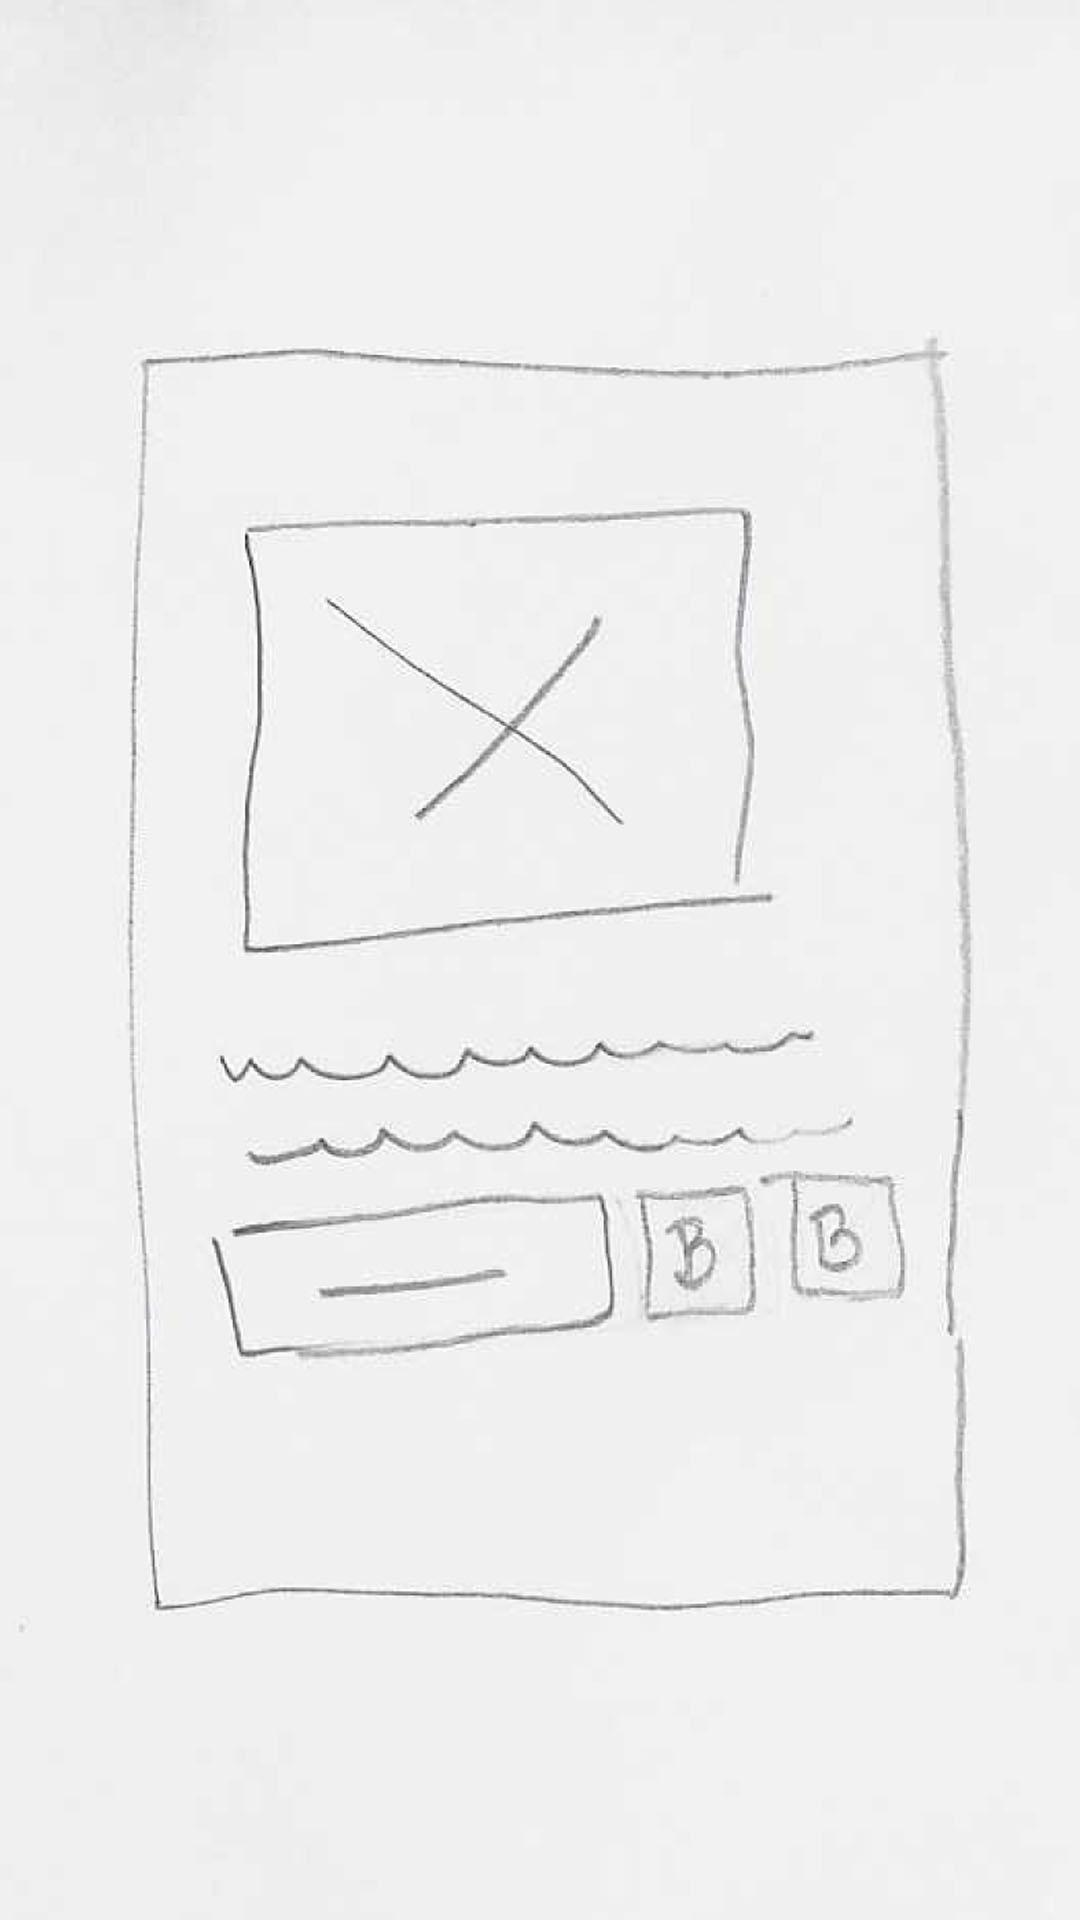Button: (210, 1197, 613, 1358), (640, 1188, 754, 1324), (789, 1174, 905, 1300)
Image: (244, 508, 757, 955)
Label: (219, 1022, 857, 1167)
Screen: (125, 345, 968, 1610)
